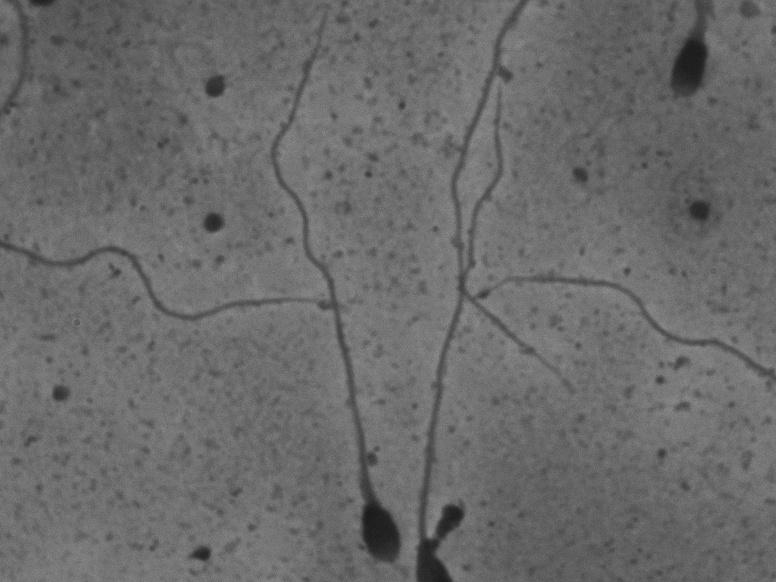Normal: (251, 11, 411, 576)
